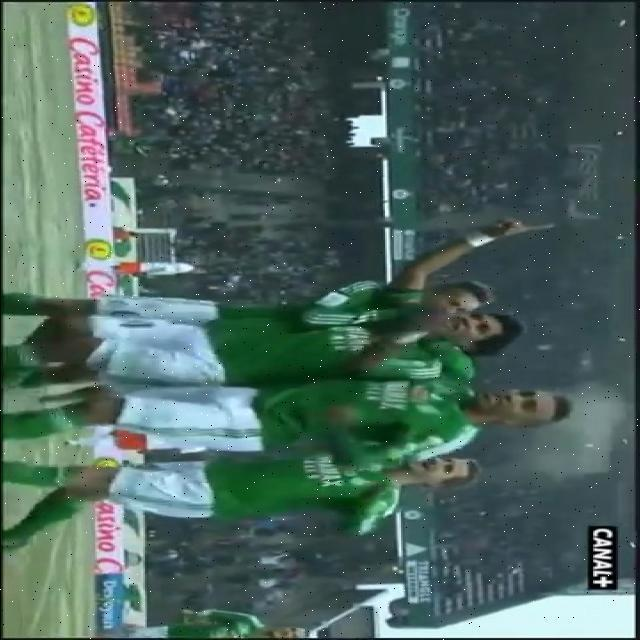player: (7, 439, 487, 567), (0, 365, 573, 468), (0, 307, 512, 394), (4, 261, 523, 324)
